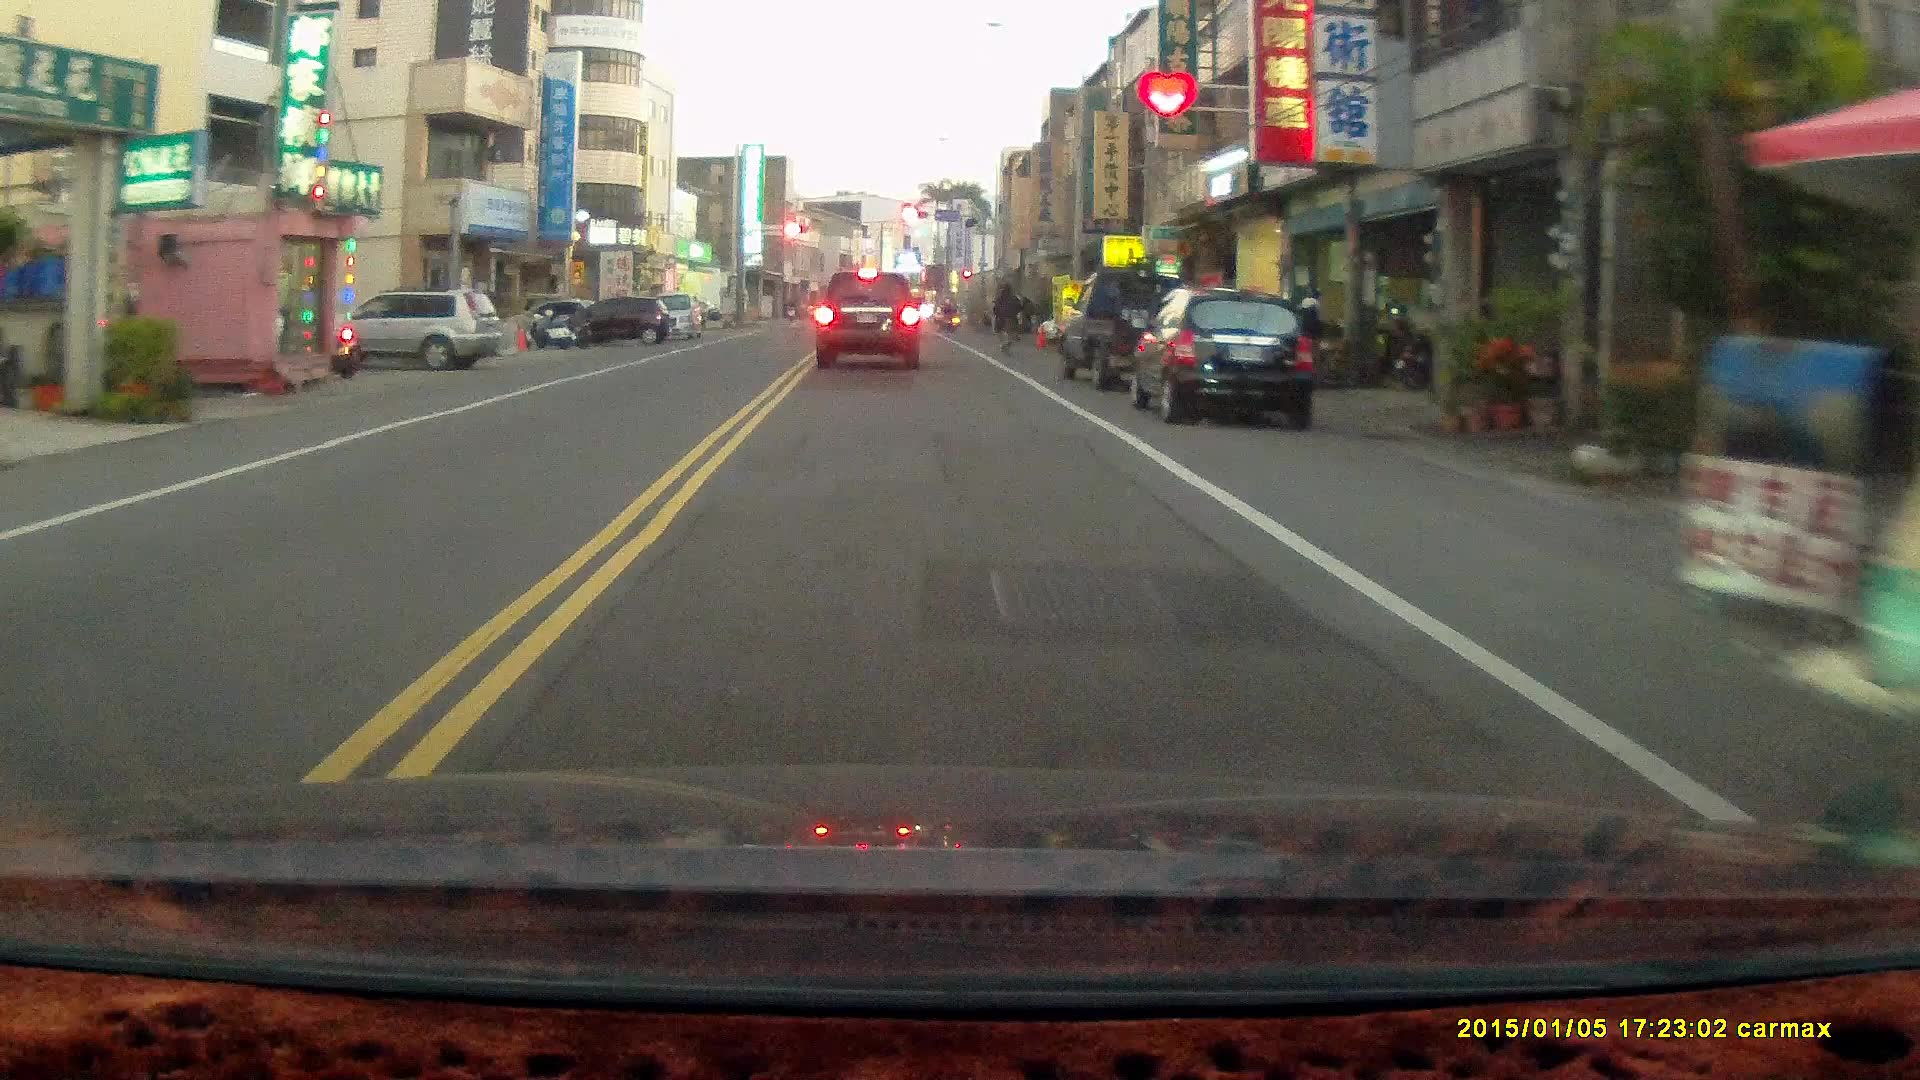rider: (990, 279, 1023, 358)
vehicle: (1146, 282, 1328, 421), (1057, 264, 1228, 390), (304, 290, 504, 369), (815, 269, 924, 374), (551, 295, 673, 346)
